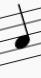A: (12, 2, 32, 64)
